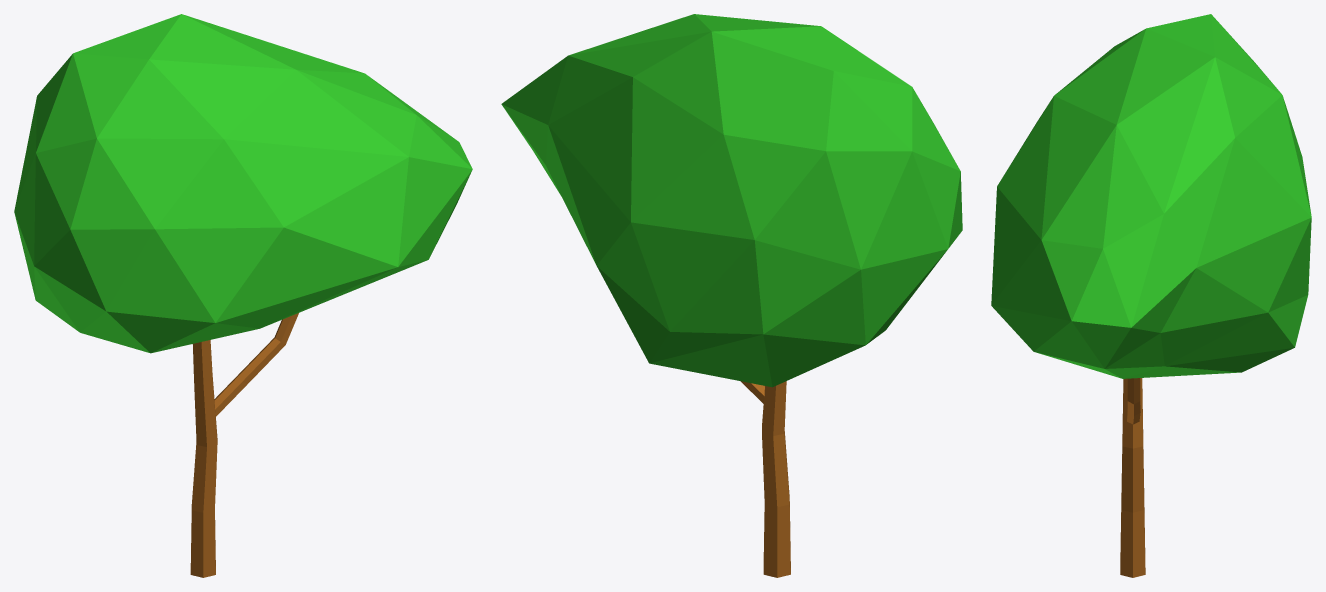
File: Tree8.fbx
The picture shows the model from 3 angles, left to right: view 1: azimuth 30°, elevation 25°; view 2: azimuth 150°, elevation 25°; view 3: azimuth 270°, elevation 25°; orthographic projection. The views are drawn at different scales.
Visible parts, largest first — view 1: Green Tree 1; view 2: Green Tree 1; view 3: Green Tree 1.
Part boxes in pixels (<box>): Green Tree 1: <box>14,14,472,577</box>; Green Tree 1: <box>501,14,962,577</box>; Green Tree 1: <box>991,14,1311,577</box>.
Size of the model in its own units: 266 by 402 by 480.
